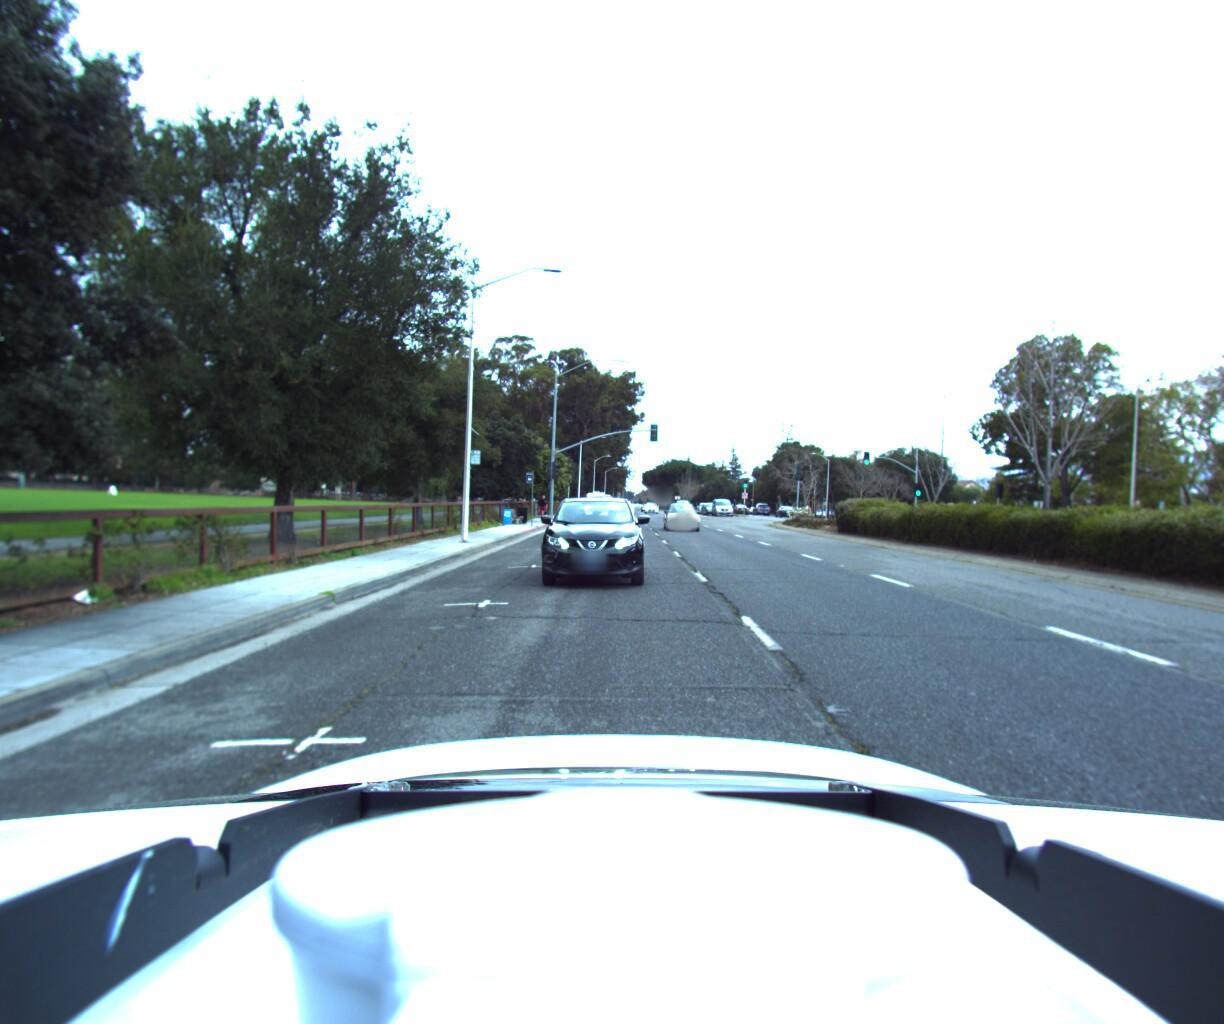bicycle: (532, 494, 557, 519)
car: (533, 490, 652, 590), (660, 503, 705, 534)
